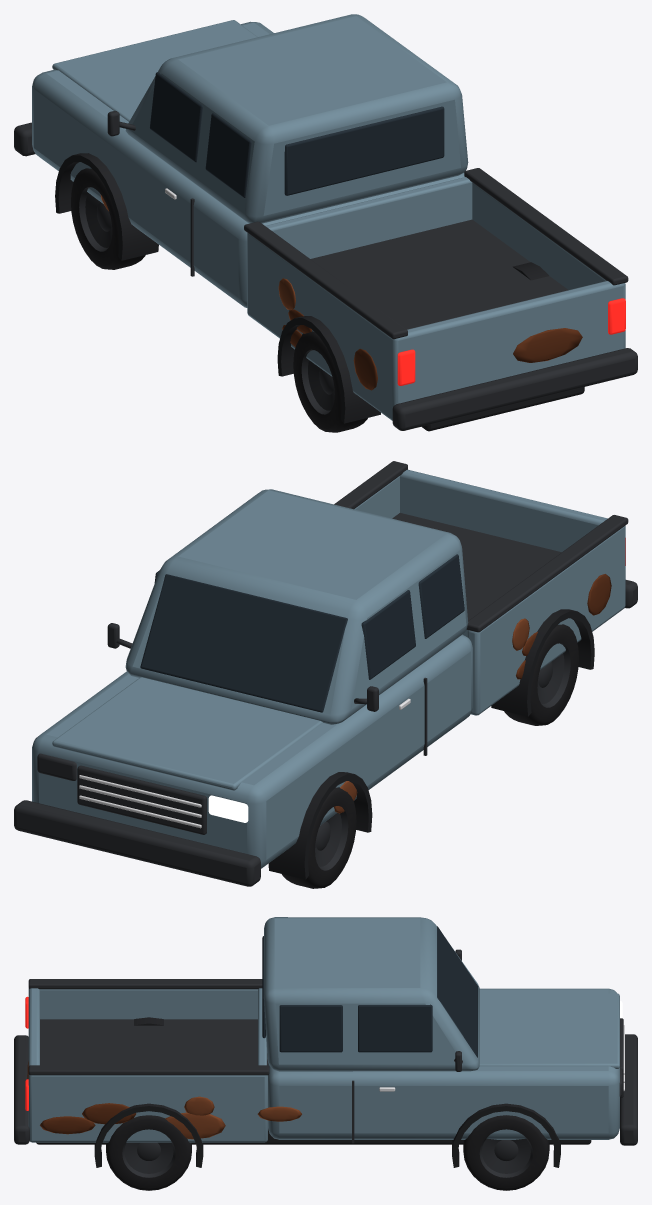
File: pickup_rusty.fbx
3 renders of one model, top to bottom at view 1: azimuth 30°, elevation 25°; view 2: azimuth 150°, elevation 25°; view 3: azimuth 270°, elevation 25°, orthographic. The views are drawn at different scales.
Visible parts, largest first — view 1: pickup_rusty; view 2: pickup_rusty; view 3: pickup_rusty.
Boxes of the visible parts, x1=… form: pickup_rusty: x1=14, y1=14, x2=637, y2=432; pickup_rusty: x1=14, y1=461, x2=637, y2=888; pickup_rusty: x1=14, y1=917, x2=637, y2=1190.
Size of the model in its own units: 2.2 by 1.88 by 5.5.
